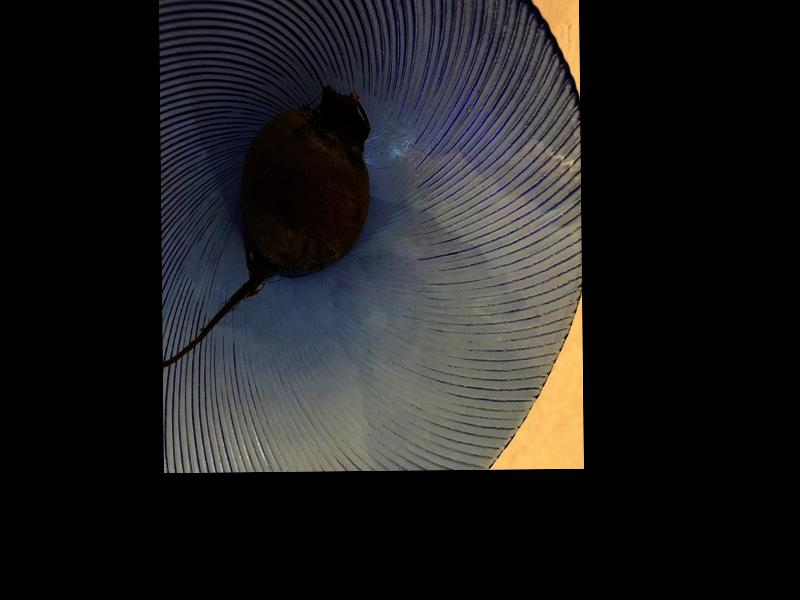Beet: (159, 86, 371, 366)
